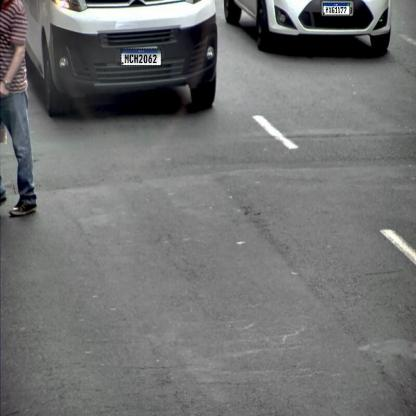PlacaM: (121, 48, 162, 66), (323, 3, 350, 15)
